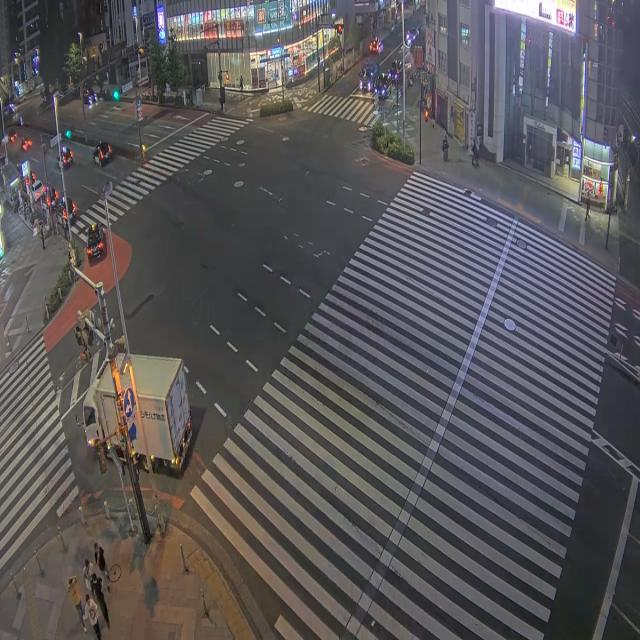car: (86, 224, 105, 262), (55, 201, 76, 224), (93, 142, 112, 167), (375, 74, 392, 99), (360, 69, 377, 92), (61, 196, 77, 217), (389, 60, 403, 82), (59, 146, 73, 167), (32, 180, 46, 201), (405, 27, 419, 47), (83, 89, 97, 106), (369, 38, 383, 55), (21, 138, 32, 151), (4, 103, 15, 116), (8, 130, 17, 142)
truck: (127, 355, 191, 471)
